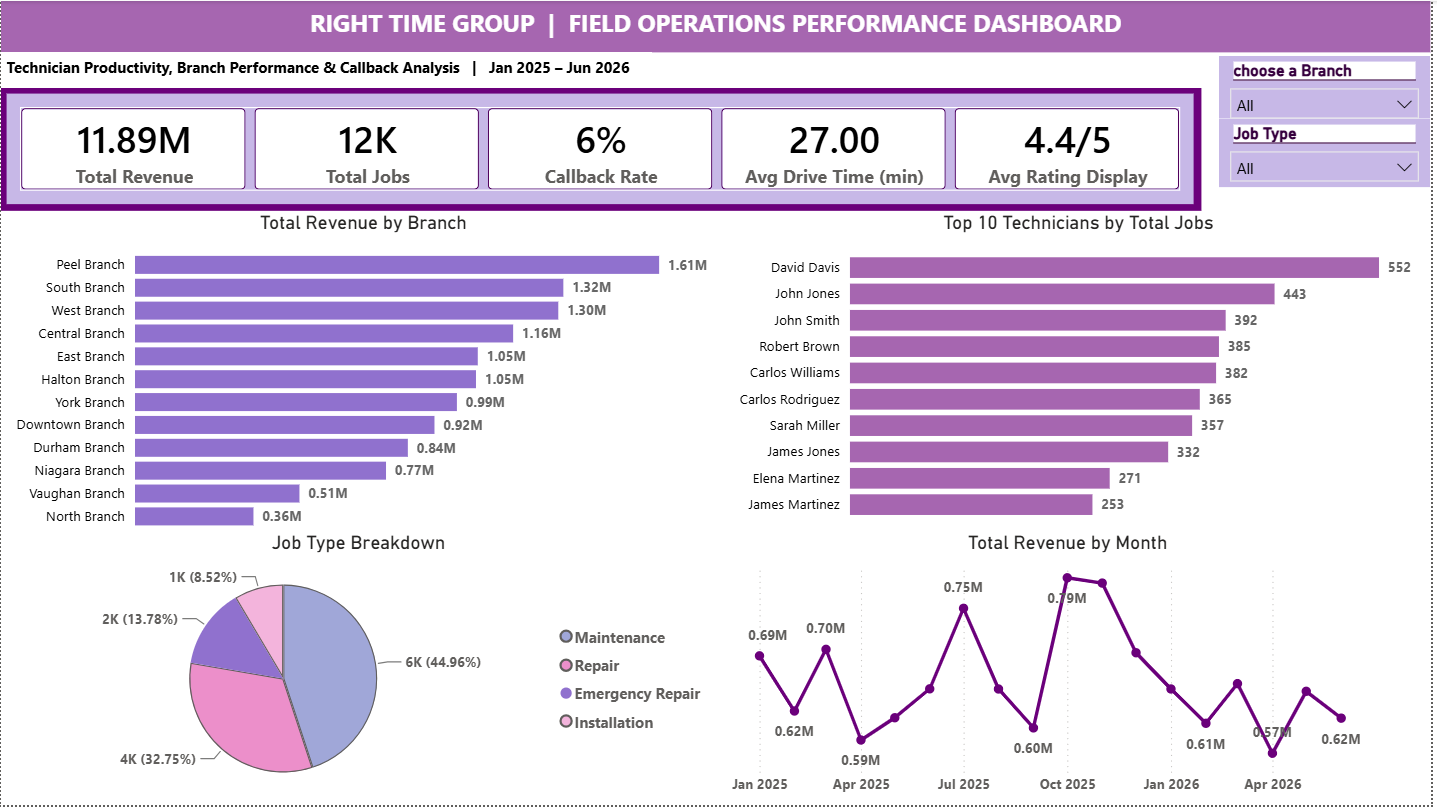

This screenshot's page, from the dashboard's own definition file:
{"tool":"powerbi","page":{"name":"Page 1","canvas":[1280,720],"ordinal":0},"visuals":[{"type":"textbox","box":[0,0,1280,45.7],"z":0},{"type":"textbox","box":[0,45.7,583.1,32.1],"z":1000},{"type":"cardVisual","fields":{"Data":["operations.Total Revenue","operations.Total Jobs","operations.Callback Rate","operations.Avg Drive Time(min)","operations.Avg Rating Display"]},"box":[0,77.9,1074.6,110],"z":2000},{"type":"slicer","title":"Choose a Branch  Below","fields":{"Values":["operations.Branch"]},"box":[1091.2,49.6,188.8,56.5],"z":3000},{"type":"clusteredBarChart","title":"Top 10 Technicians by Total Jobs","fields":{"Category":["operations.Technician Name"],"Y":["operations.Total Jobs"]},"box":[649,188,631,287],"z":4000},{"type":"barChart","fields":{"Category":["operations.Branch"],"Y":["operations.Total Revenue"]},"box":[0,188,649,295],"z":5000},{"type":"pieChart","title":"Job Type Breakdown","fields":{"Y":["operations.Total Jobs"],"Category":["operations.Job Type"]},"box":[0,475,640.5,245.3],"z":6000},{"type":"lineChart","title":"Total Revenue by Month ","fields":{"Y":["operations.Total Revenue"],"Category":["operations.Date.Variation.Date Hierarchy.Year","operations.Date.Variation.Date Hierarchy.Month"]},"box":[649,475,612,245],"z":7000},{"type":"slicer","fields":{"Values":["operations.Job Type"]},"box":[1091.2,106.1,188.8,61.3],"z":8000}]}

Visuals, with their boxes in screenshot pixels (x1, y1, x2, y2), scaled from the page's 1280x720 canvas onto the 1437x808 screenshot:
textbox: bbox(0, 0, 1436, 51)
textbox: bbox(0, 51, 655, 87)
cardVisual - operations.Total Revenue x operations.Total Jobs: bbox(0, 87, 1206, 211)
"Choose a Branch  Below" slicer: bbox(1225, 56, 1436, 119)
"Top 10 Technicians by Total Jobs" clusteredBarChart: bbox(729, 211, 1436, 533)
barChart - operations.Branch x operations.Total Revenue: bbox(0, 211, 729, 542)
"Job Type Breakdown" pieChart: bbox(0, 533, 719, 807)
"Total Revenue by Month " lineChart: bbox(729, 533, 1416, 807)
slicer - operations.Job Type: bbox(1225, 119, 1436, 188)
